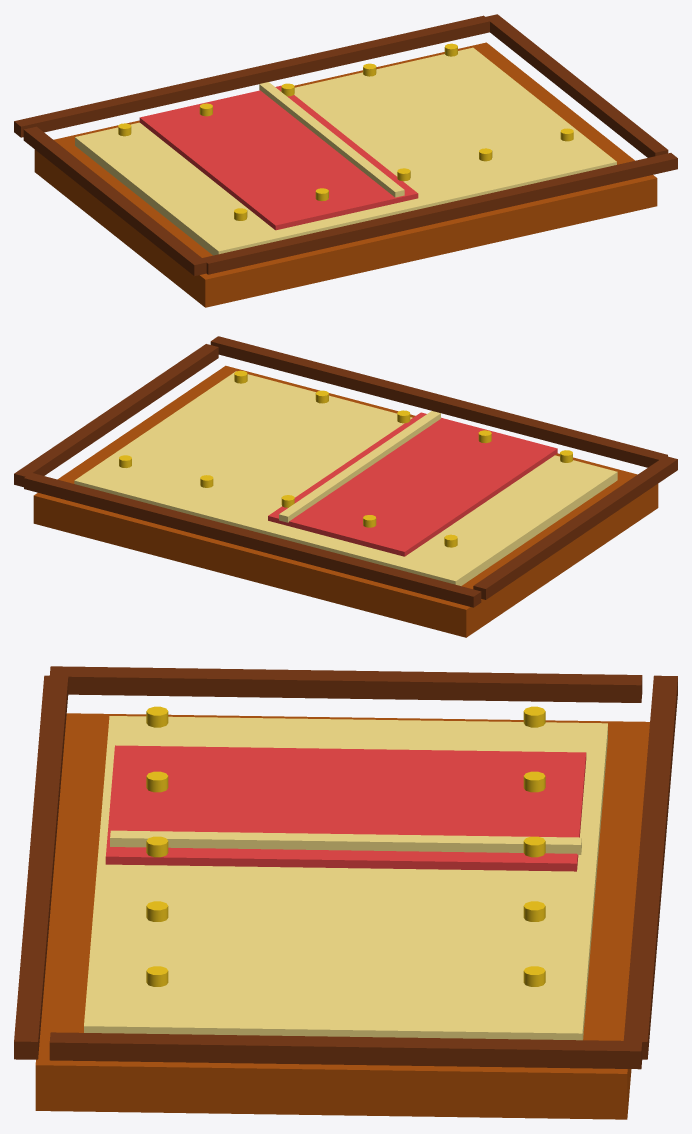
Rendered from toy_barn_rooftop_hayloft.glb.
3 renders of one model, top to bottom at view 1: azimuth 30°, elevation 25°; view 2: azimuth 150°, elevation 25°; view 3: azimuth 270°, elevation 25°, orthographic. The views are drawn at different scales.
Visible parts, largest first — view 1: solid_soft_hay_top, solid_rooftop_deck, solid_7, solid_4, solid_3, solid_5, solid_6, solid_8; view 2: solid_soft_hay_top, solid_rooftop_deck, solid_7, solid_3, solid_4, solid_5, solid_6, solid_8; view 3: solid_soft_hay_top, solid_rooftop_deck, solid_7, solid_6, solid_5, solid_4, solid_3, solid_8.
Part boxes in pixels (x1,y1,x2,y2): solid_soft_hay_top: (75,47,616,255); solid_rooftop_deck: (34,42,657,307); solid_7: (139,85,418,230); solid_4: (202,153,677,274); solid_3: (14,15,489,137); solid_5: (23,126,206,276); solid_6: (485,14,668,157); solid_8: (259,82,404,197); solid_soft_hay_top: (74,371,617,585); solid_rooftop_deck: (33,365,658,637); solid_7: (268,412,557,556); solid_3: (24,473,481,607); solid_4: (210,336,667,467); solid_5: (473,456,677,599); solid_6: (14,344,218,487); solid_8: (279,411,440,522); solid_soft_hay_top: (84,716,607,1040); solid_rooftop_deck: (35,713,649,1119); solid_7: (105,745,586,871); solid_6: (49,1032,642,1069); solid_5: (49,666,642,702); solid_4: (14,675,68,1059); solid_3: (623,675,677,1059); solid_8: (110,830,581,854).
Bounding box in the file's own units: 8.31 × 0.99 × 6.06.
